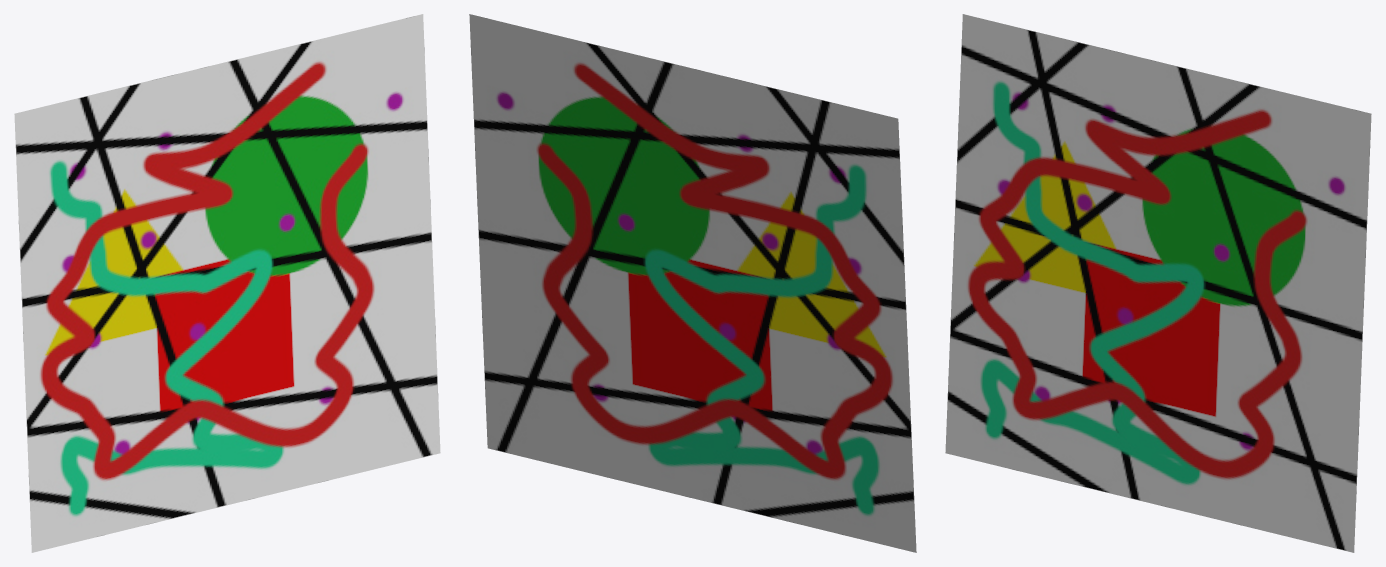
3 views of the same model, side by side, from view 1: azimuth 30°, elevation 25°; view 2: azimuth 150°, elevation 25°; view 3: azimuth 330°, elevation 25° (orthographic). The views are drawn at different scales.
Parts seen in each view (by area): view 1: Grid; view 2: Grid; view 3: Grid.
Part boxes in pixels (<box>): Grid: <box>14,14,440,552</box>; Grid: <box>469,14,916,552</box>; Grid: <box>945,14,1371,552</box>.
Bounding box in the file's own units: 2 × 1.99 × 0.1471.
Materials: 1 (1 with a texture image).
